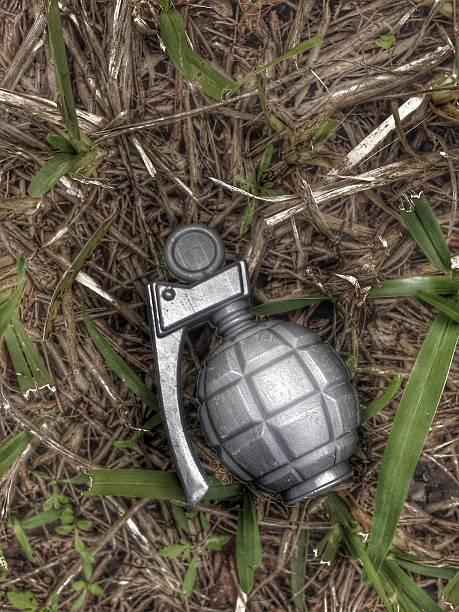Grenade: (143, 222, 361, 507)
